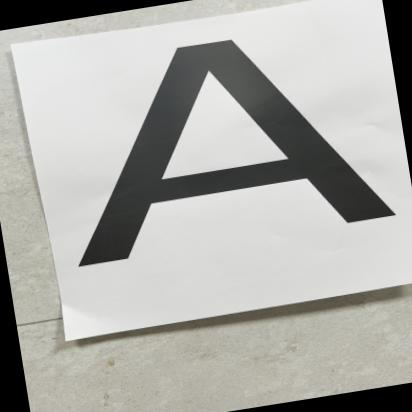seat: (30, 7, 412, 302)
